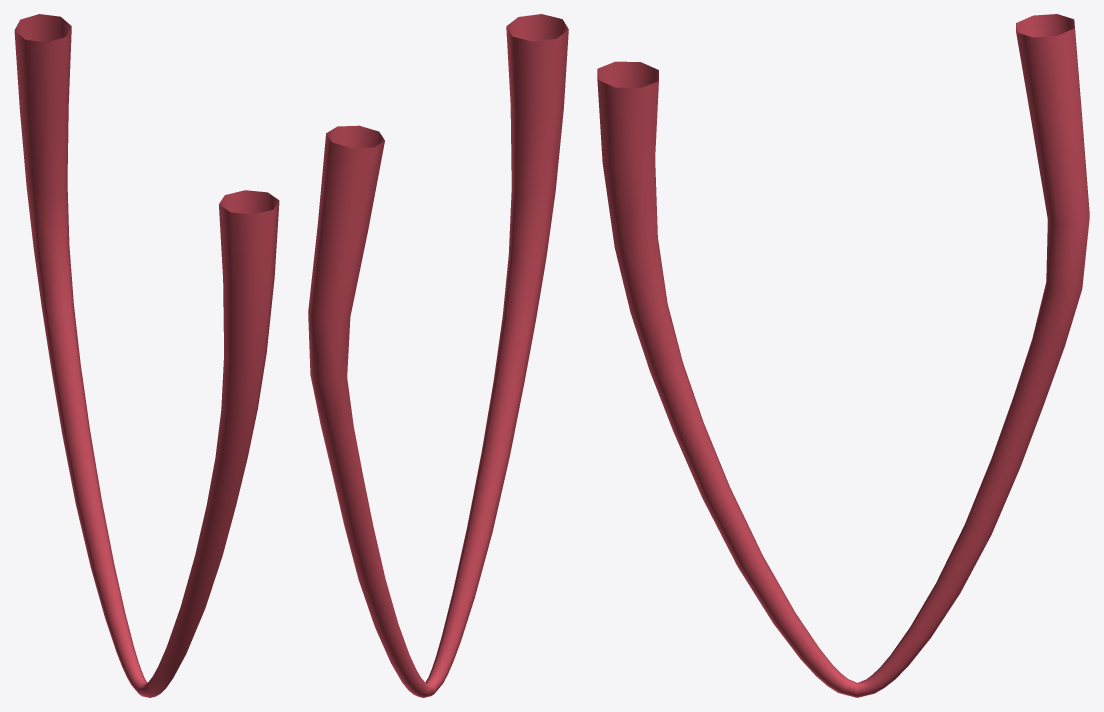
The model's file is liane09.fbx.
3 views of the same model, side by side, from view 1: azimuth 30°, elevation 25°; view 2: azimuth 150°, elevation 25°; view 3: azimuth 270°, elevation 25° (orthographic). The views are drawn at different scales.
Visible parts, largest first — view 1: liane09_LOD0; view 2: liane09_LOD0; view 3: liane09_LOD0.
Boxes of the visible parts, x1,y1,x2,y2 form: liane09_LOD0: [14, 14, 279, 697]; liane09_LOD0: [308, 14, 568, 697]; liane09_LOD0: [597, 14, 1089, 697].
Size of what is drawn, in the model's own units: 50.78 by 474 by 318.
